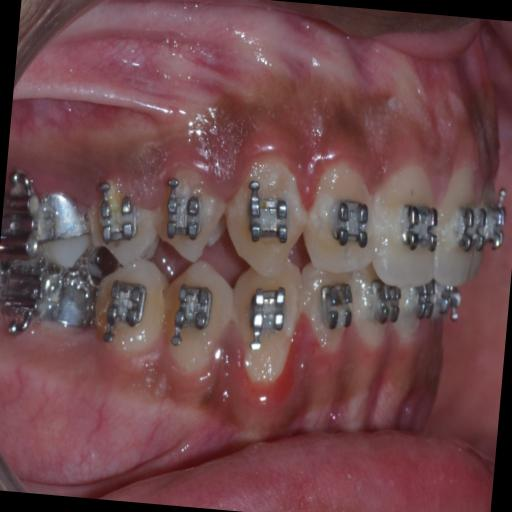correct_brace: (164, 260, 236, 370), (156, 170, 229, 264), (244, 176, 295, 250), (168, 274, 214, 356), (396, 189, 440, 267), (244, 282, 290, 353), (102, 276, 150, 344), (330, 190, 372, 254), (316, 280, 354, 334)
incorrect_brace: (308, 164, 379, 276), (302, 267, 356, 354), (164, 186, 212, 254)
